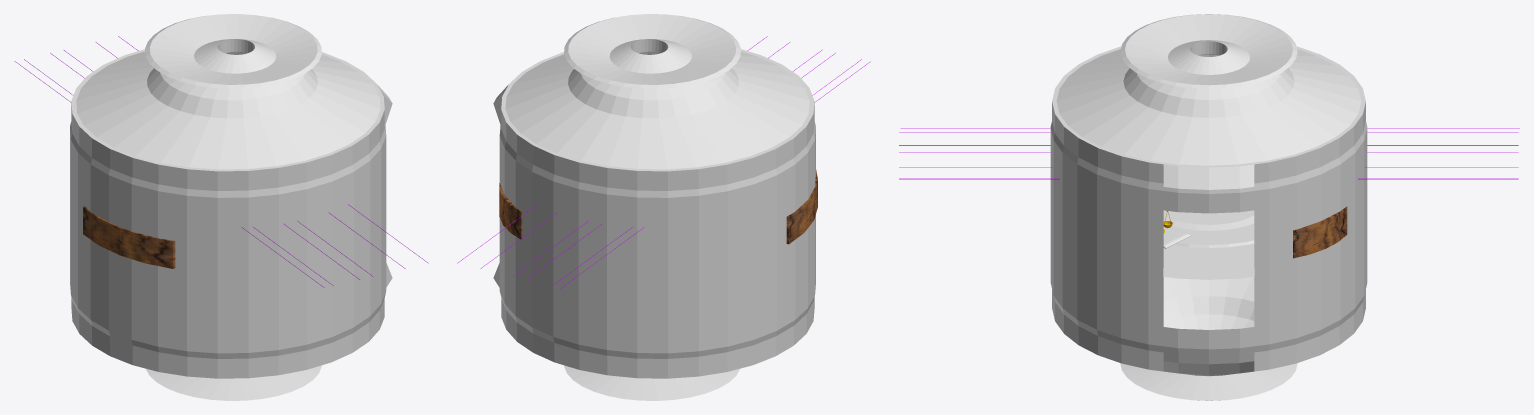
File: map_ver69 (2).fbx
3 views of the same model, side by side, from view 1: azimuth 30°, elevation 25°; view 2: azimuth 150°, elevation 25°; view 3: azimuth 270°, elevation 25° (orthographic).
Parts seen in each view (by area): view 1: 로비, 걸래(배치할때쓴거여서지워도상관없음), 책장3; view 2: 로비, 걸래(배치할때쓴거여서지워도상관없음), 책장3, 책장2; view 3: 로비, 걸래(배치할때쓴거여서지워도상관없음), 책장2, 보라라인1.
Boxes of the visible parts, box(x1,y1,x2,y2) form: 로비: box(70, 14, 392, 275); 걸래(배치할때쓴거여서지워도상관없음): box(70, 208, 392, 400); 책장3: box(83, 206, 175, 268); 로비: box(493, 14, 815, 275); 걸래(배치할때쓴거여서지워도상관없음): box(493, 215, 815, 400); 책장3: box(786, 170, 817, 244); 책장2: box(499, 183, 522, 239); 로비: box(1050, 14, 1367, 271); 걸래(배치할때쓴거여서지워도상관없음): box(1050, 206, 1367, 400); 책장2: box(1293, 206, 1347, 258); 보라라인1: box(899, 178, 1518, 179).
Bounding box in the file's own units: 2818 × 3003 × 5290.
Materials: 33 (7 with a texture image).
